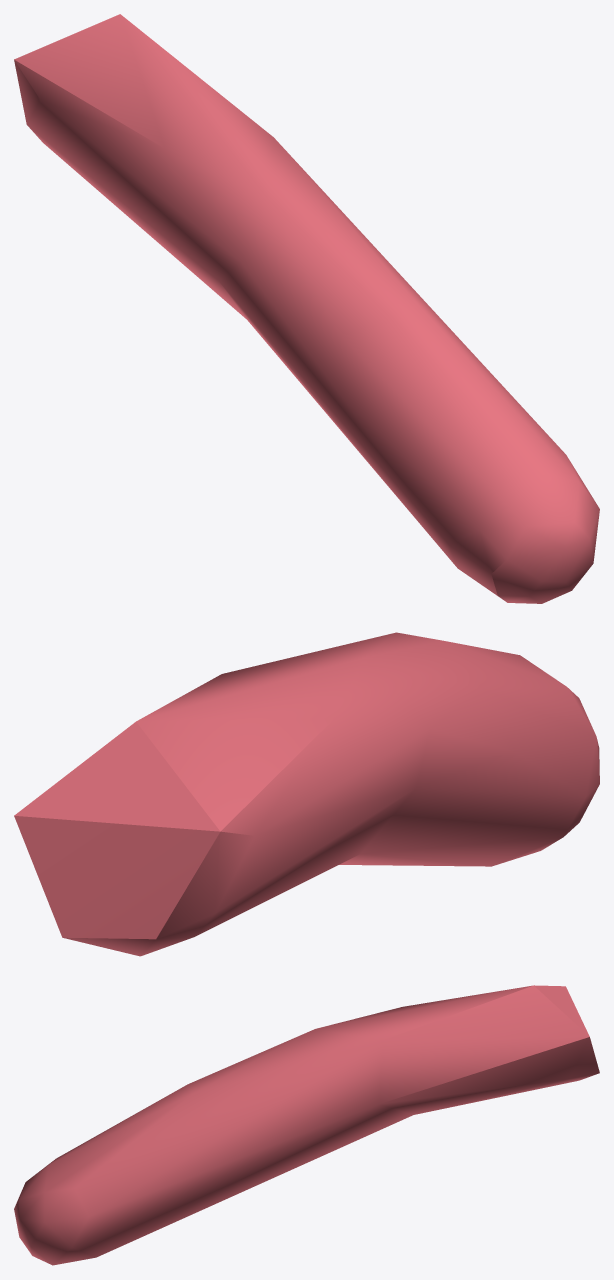
Rendered from fma8670_fj3052.glb.
3 views of the same model, one above another, from view 1: azimuth 30°, elevation 25°; view 2: azimuth 150°, elevation 25°; view 3: azimuth 270°, elevation 25° (orthographic). The views are drawn at different scales.
Visible parts, largest first — view 1: FMA8670_FJ3052; view 2: FMA8670_FJ3052; view 3: FMA8670_FJ3052.
Boxes of the visible parts, box(x1,y1,x2,y2) form: FMA8670_FJ3052: box(14, 14, 599, 603); FMA8670_FJ3052: box(14, 632, 599, 956); FMA8670_FJ3052: box(14, 985, 599, 1265).
Size of the model in its own units: 0.00312 by 0.00488 by 0.0103.
